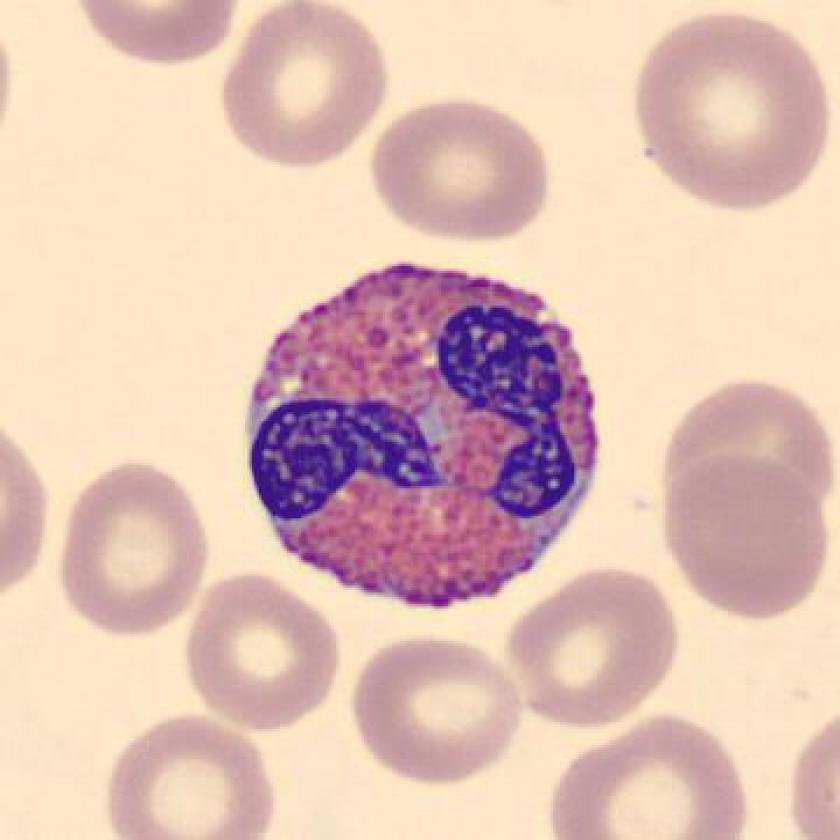eosinophil: (230, 249, 612, 621)
